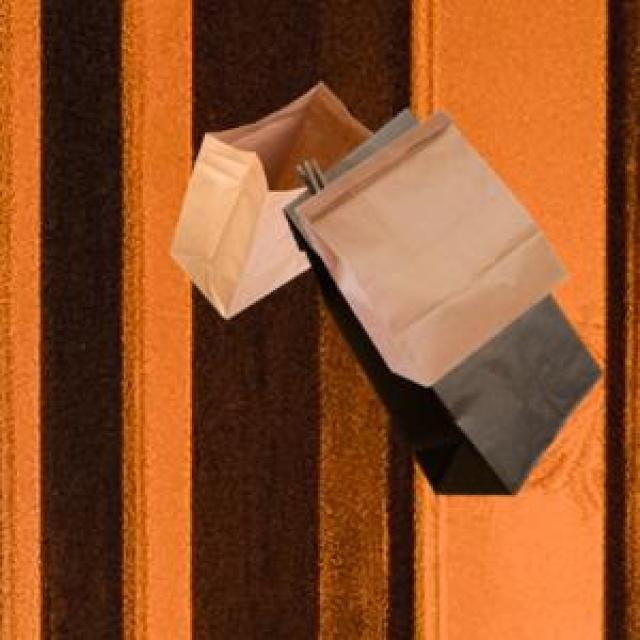paper: (280, 105, 597, 491), (292, 107, 563, 382), (166, 79, 369, 314)
